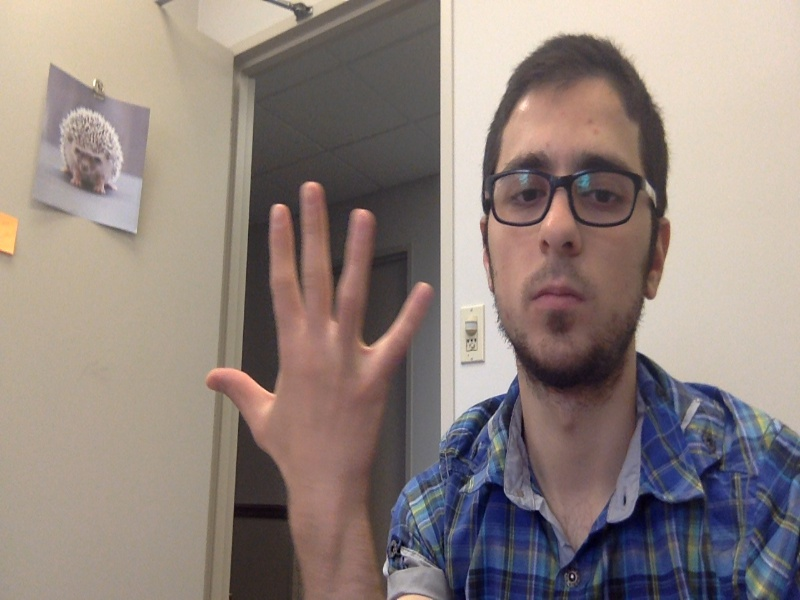5-hand: (200, 180, 432, 500)
